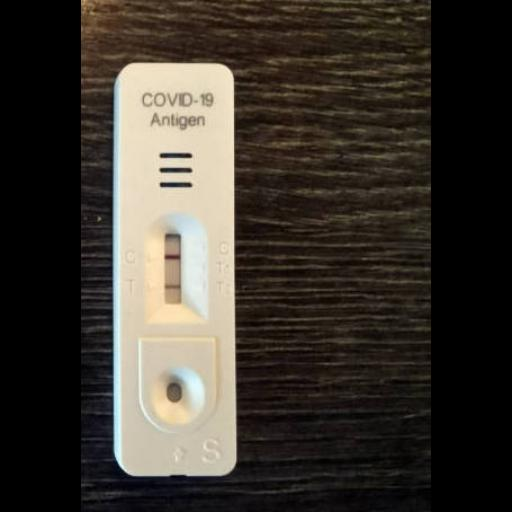Pos: (115, 62, 233, 474)
